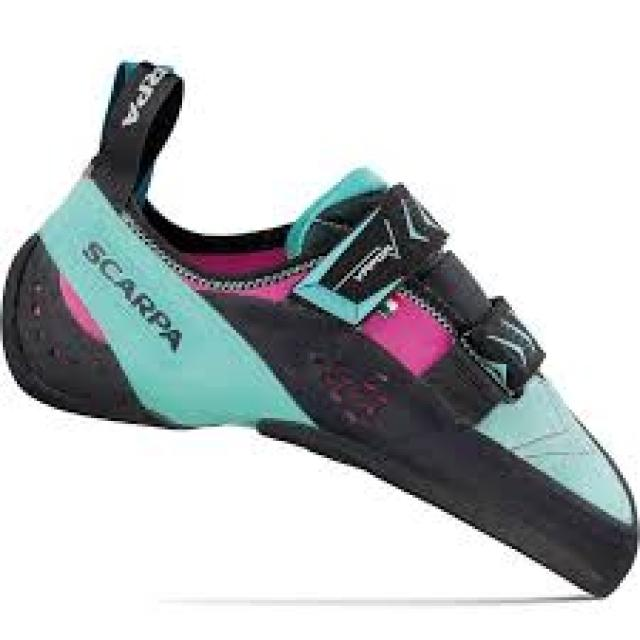climbing-shoes: (3, 57, 639, 600)
